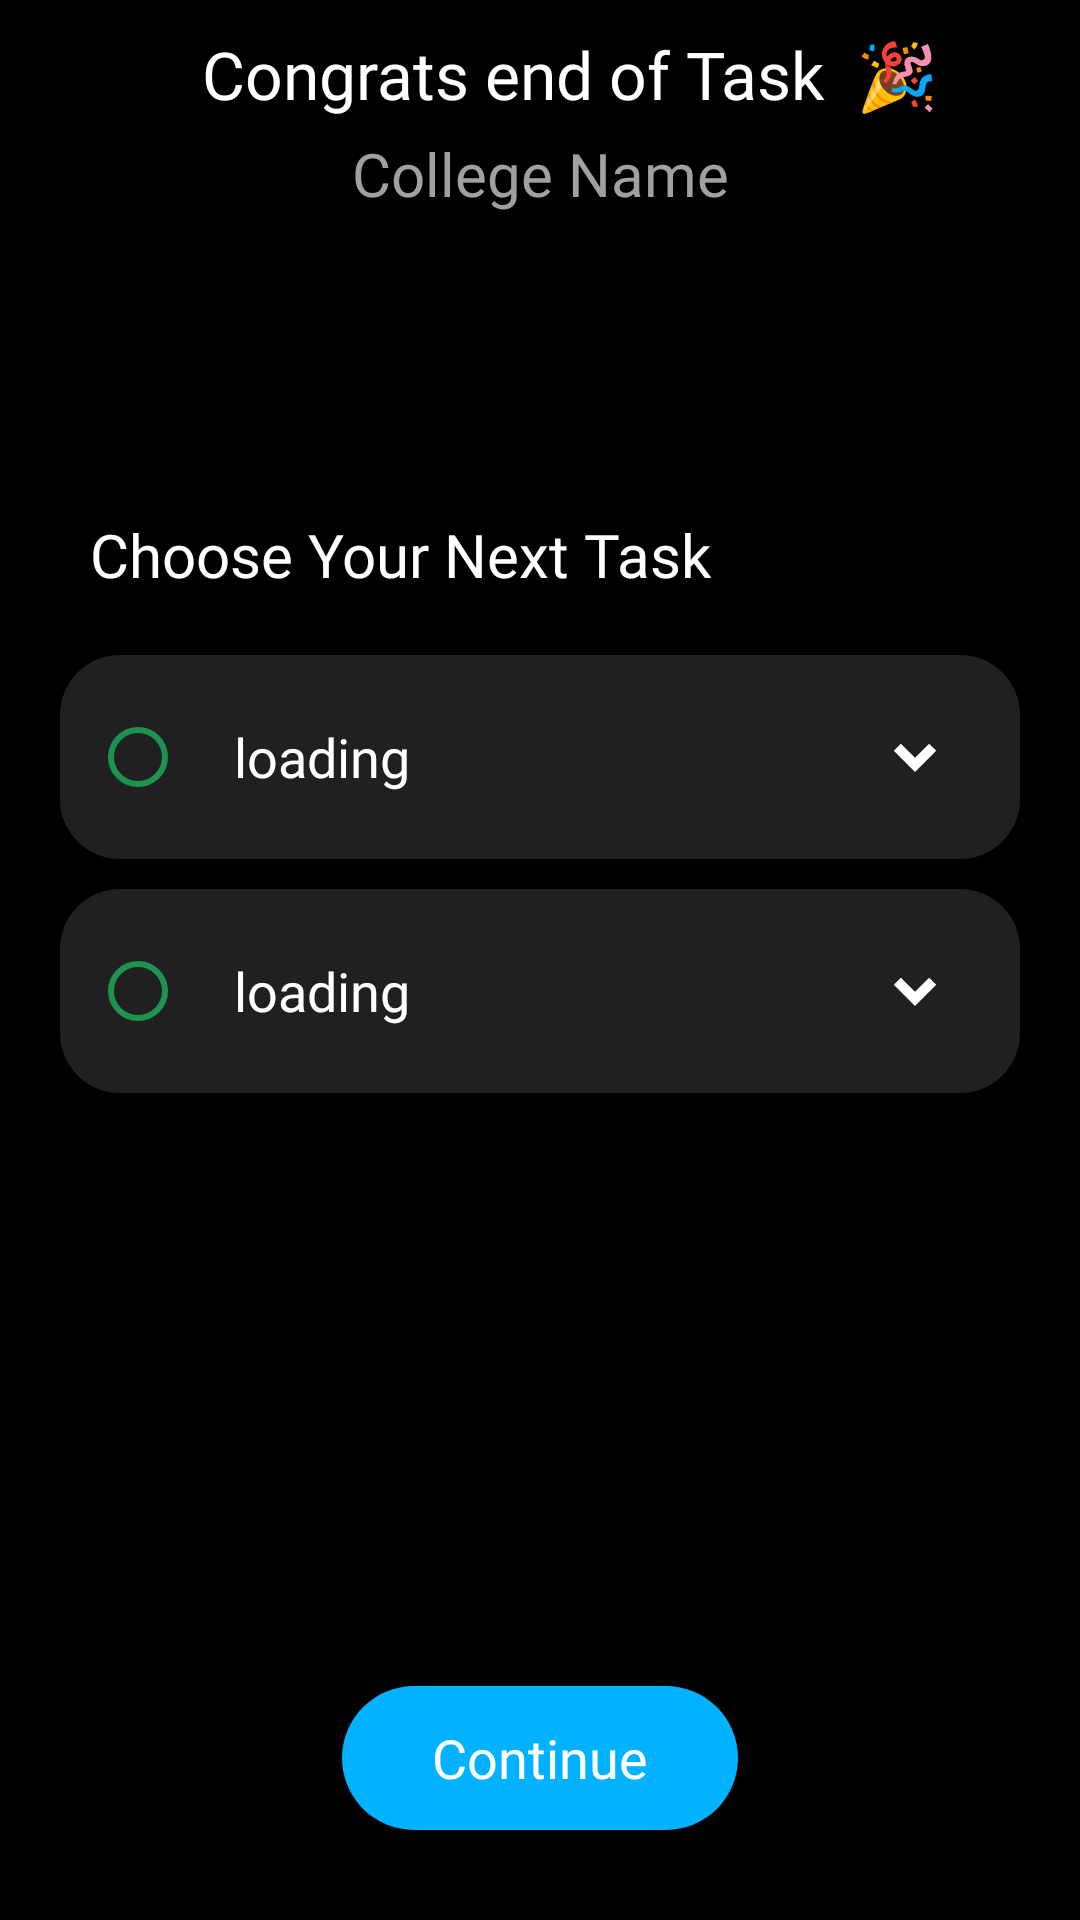

Icon click points for this 1080 x 1920 phone screenshot, format point (x, y):
down: point (915, 758), point (915, 992)
